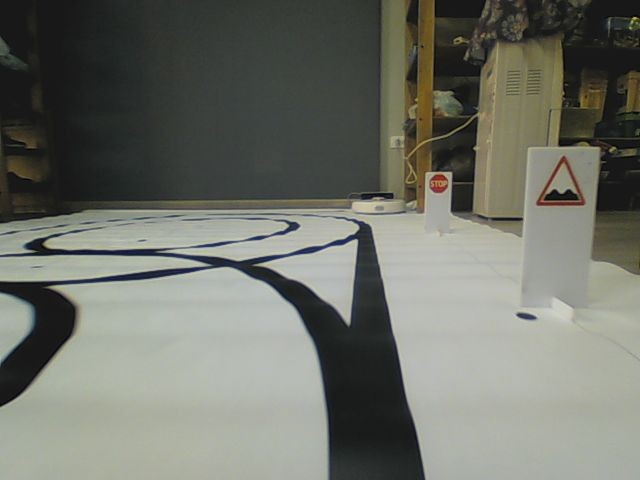Nerov: (535, 153, 588, 208)
Stop: (429, 173, 448, 194)
